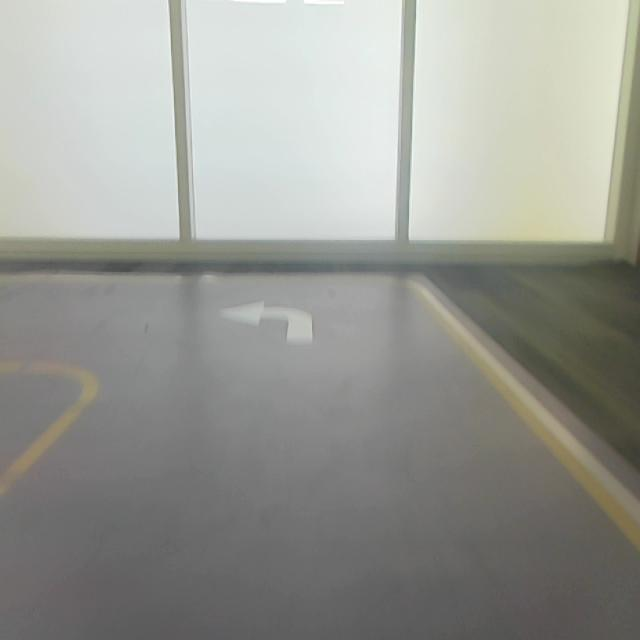left_lane: (1, 384, 94, 498)
right_lane: (425, 293, 640, 551)
